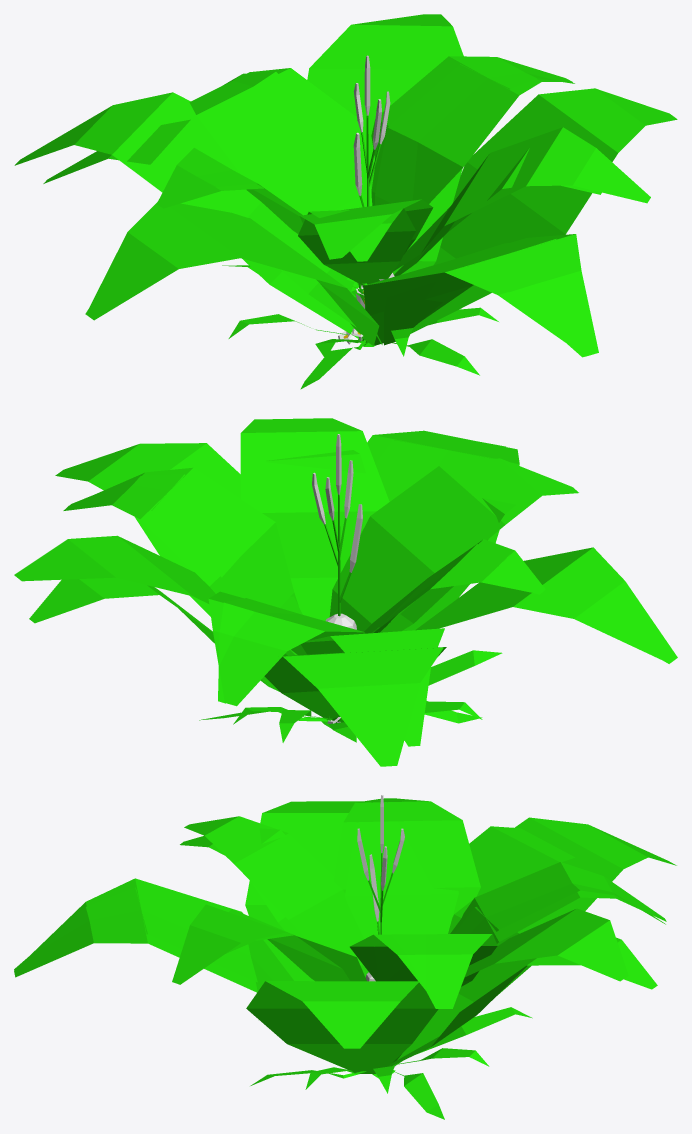
File: bLUMEN.fbx
3 views of the same model, one above another, from view 1: azimuth 30°, elevation 25°; view 2: azimuth 150°, elevation 25°; view 3: azimuth 270°, elevation 25° (orthographic). The views are drawn at different scales.
Visible parts, largest first — view 1: Farn_1, Farn_2, Sauerampfer; view 2: Farn_1, Farn_2, Sauerampfer; view 3: Farn_1, Farn_2, Sauerampfer.
Part boxes in pixels (x1,y1,x2,y2): Farn_1: (14,14,677,356); Farn_2: (43,64,673,357); Sauerampfer: (222,55,498,389); Farn_1: (14,418,677,766); Farn_2: (29,440,669,746); Sauerampfer: (199,434,502,742); Farn_1: (14,798,676,1073); Farn_2: (14,798,665,1073); Sauerampfer: (250,795,532,1119).
Size of the model in its own units: 395 by 183 by 395.
